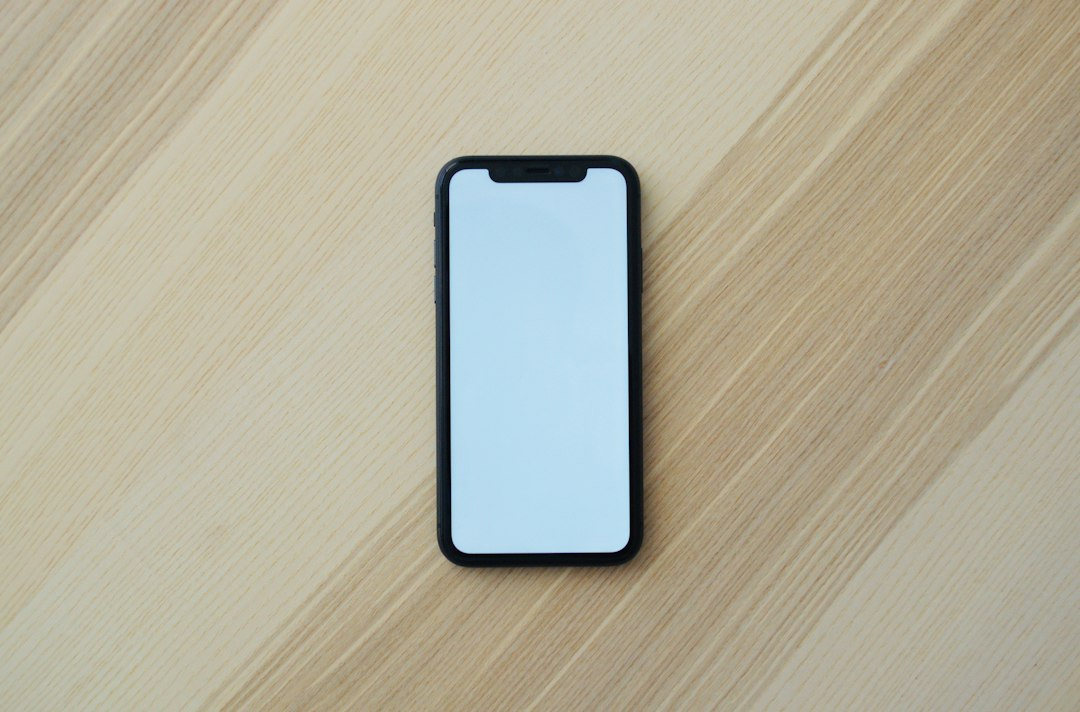phone: (433, 158, 643, 561)
